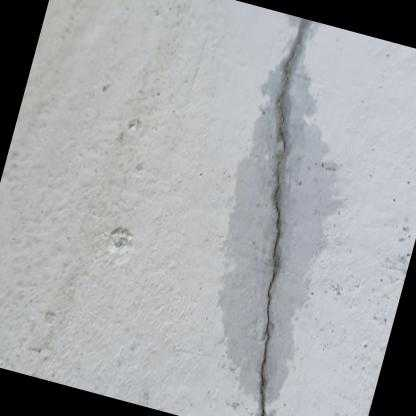crack: (259, 41, 299, 416)
